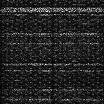lte: (1, 6, 104, 12)
